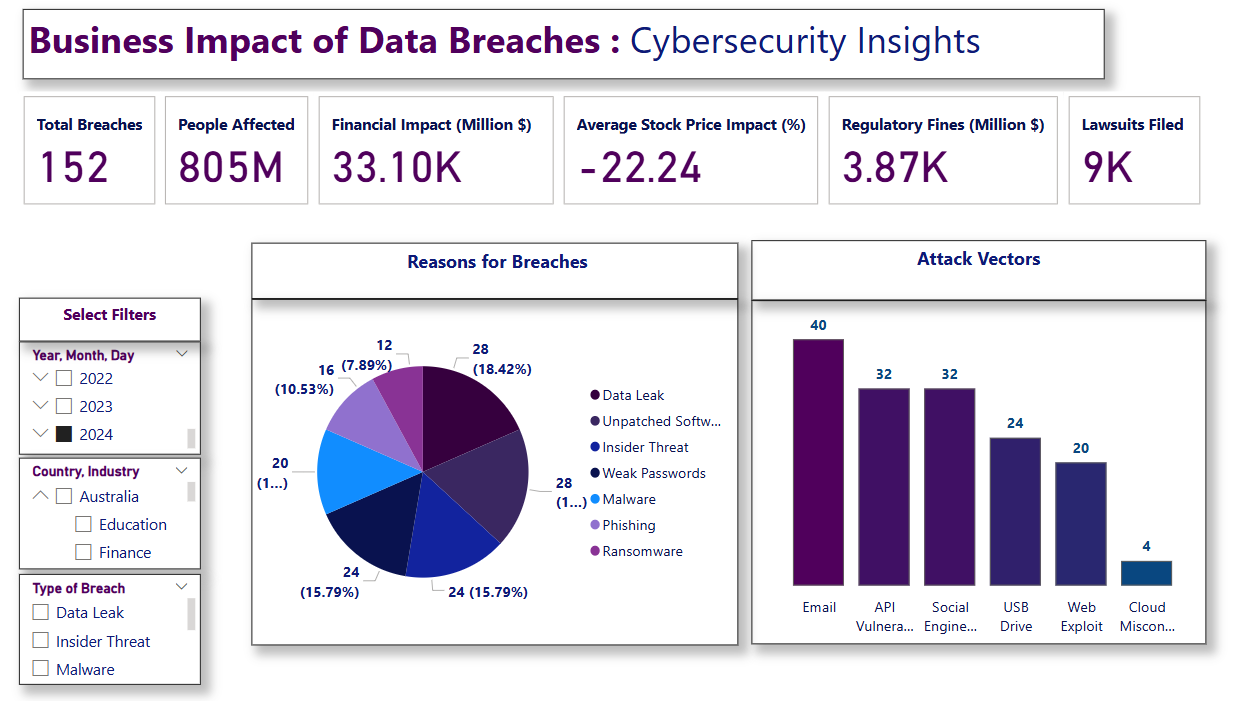

This screenshot's page, from the dashboard's own definition file:
{"tool":"powerbi","page":{"name":"Cybersecurity Insights","canvas":[1280,720],"ordinal":2},"visuals":[{"type":"group","id":"g1","title":"Group 1","box":[258.6,249.8,499.6,412.9],"z":0},{"type":"textbox","box":[258.9,249.8,499.3,57.2],"z":0,"group":"g1"},{"type":"group","id":"g2","title":"Group 8","box":[20.5,351.1,186.7,352.5],"z":0,"group":"g4"},{"type":"group","id":"g3","title":"Group 2","box":[772.2,248,466.3,414.4],"z":1000},{"type":"textbox","box":[20.5,306,186.3,45.1],"z":1000,"group":"g4"},{"type":"textbox","box":[772.2,248,466.3,61.4],"z":2000,"group":"g3"},{"type":"group","id":"g4","title":"Group 9","box":[20.5,306,186.7,397.6],"z":2000},{"type":"textbox","box":[25,10.3,1109.4,72],"z":3000},{"type":"pieChart","fields":{"Category":["Sheet1.Cause"],"Y":["Sheet1.Total Breaches"]},"box":[258.6,307.2,499.3,355.5],"z":3000,"group":"g1"},{"type":"slicer","fields":{"Values":["Sheet1.Date of Breach.Variation.Date Hierarchy.Year","Sheet1.Date of Breach.Variation.Date Hierarchy.Month","Sheet1.Date of Breach.Variation.Date Hierarchy.Day"]},"box":[20.5,351.1,186.7,115.7],"z":3000,"group":"g2"},{"type":"group","id":"g5","title":"Group 7","box":[20.6,95.5,1216.7,122],"z":4000},{"type":"clusteredColumnChart","fields":{"Category":["Sheet1.Attack Vector"],"Y":["Sheet1.Total Breaches"]},"box":[772.2,309.4,466.3,353],"z":4000,"group":"g3"},{"type":"slicer","fields":{"Values":["Sheet1.Country","Sheet1.Industry"]},"box":[20.5,470.5,186.4,114.4],"z":4000,"group":"g2"},{"type":"slicer","fields":{"Values":["Sheet1.Type of Breach"]},"box":[20.7,590.1,186.3,113.5],"z":5000,"group":"g2"},{"type":"cardVisual","fields":{"Data":["Avg(Sheet1.Stock Price Impact (%))"]},"box":[574.6,95.5,271.8,122],"z":6000,"group":"g5"},{"type":"cardVisual","fields":{"Data":["Sheet1.Total Breaches"]},"box":[20.6,95.5,145.5,122],"z":7000,"group":"g5"},{"type":"cardVisual","fields":{"Data":["Sum(Sheet1.Regulatory Fines (Million $))"]},"box":[846.4,95.5,245.4,122],"z":8000,"group":"g5"},{"type":"cardVisual","fields":{"Data":["Sum(Sheet1.Lawsuits Filed)"]},"box":[1091.8,95.5,145.5,122],"z":9000,"group":"g5"},{"type":"cardVisual","fields":{"Data":["Sum(Sheet1.People Affected)"]},"box":[166.1,95.5,157.2,122],"z":10000,"group":"g5"},{"type":"cardVisual","fields":{"Data":["Sum(Sheet1.Financial Impact (Million $))"]},"box":[323.3,95.5,251.3,122],"z":11000,"group":"g5"}]}

Visuals, with their boxes in screenshot pixels (x1, y1, x2, y2), scaled from the page's 1280x720 canvas onto the 1246x701 screenshot:
"Group 1" group: bbox=(252, 243, 738, 645)
textbox: bbox=(252, 243, 738, 299)
"Group 8" group: bbox=(20, 342, 202, 685)
"Group 2" group: bbox=(752, 241, 1206, 645)
textbox: bbox=(20, 298, 201, 342)
textbox: bbox=(752, 241, 1206, 301)
"Group 9" group: bbox=(20, 298, 202, 685)
textbox: bbox=(24, 10, 1104, 80)
pieChart - Sheet1.Cause x Sheet1.Total Breaches: bbox=(252, 299, 738, 645)
slicer - Sheet1.Date of Breach.Variation.Date Hierarchy.Year x Sheet1.Date of Breach.Variation.Date Hierarchy.Month: bbox=(20, 342, 202, 454)
"Group 7" group: bbox=(20, 93, 1204, 212)
clusteredColumnChart - Sheet1.Attack Vector x Sheet1.Total Breaches: bbox=(752, 301, 1206, 645)
slicer - Sheet1.Country x Sheet1.Industry: bbox=(20, 458, 201, 569)
slicer - Sheet1.Type of Breach: bbox=(20, 575, 202, 685)
cardVisual - Avg(Sheet1.Stock Price Impact (%)): bbox=(559, 93, 824, 212)
cardVisual - Sheet1.Total Breaches: bbox=(20, 93, 162, 212)
cardVisual - Sum(Sheet1.Regulatory Fines (Million $)): bbox=(824, 93, 1063, 212)
cardVisual - Sum(Sheet1.Lawsuits Filed): bbox=(1063, 93, 1204, 212)
cardVisual - Sum(Sheet1.People Affected): bbox=(162, 93, 315, 212)
cardVisual - Sum(Sheet1.Financial Impact (Million $)): bbox=(315, 93, 559, 212)
